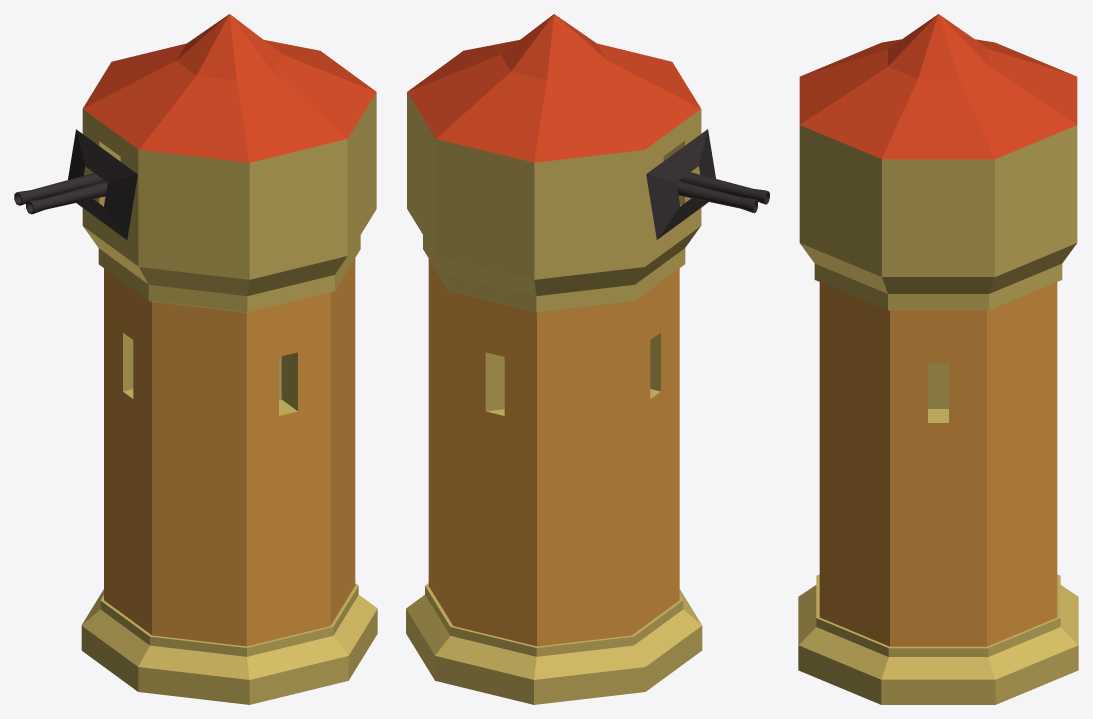
The model's file is MinigunTower.fbx.
3 views of the same model, side by side, from view 1: azimuth 30°, elevation 25°; view 2: azimuth 150°, elevation 25°; view 3: azimuth 270°, elevation 25° (orthographic).
Parts seen in each view (by area): view 1: Plane, Head, Gun; view 2: Plane, Head, Gun; view 3: Plane, Head.
Part boxes in pixels (box(x1,y1,x2,y2)): Plane: box(81, 235, 377, 704); Head: box(82, 14, 376, 296); Gun: box(14, 129, 137, 239); Plane: box(406, 235, 702, 704); Head: box(407, 14, 701, 296); Gun: box(646, 129, 769, 239); Plane: box(798, 264, 1078, 704); Head: box(799, 14, 1077, 293).
Bounding box in the file's own units: 610 × 1120 × 450.
